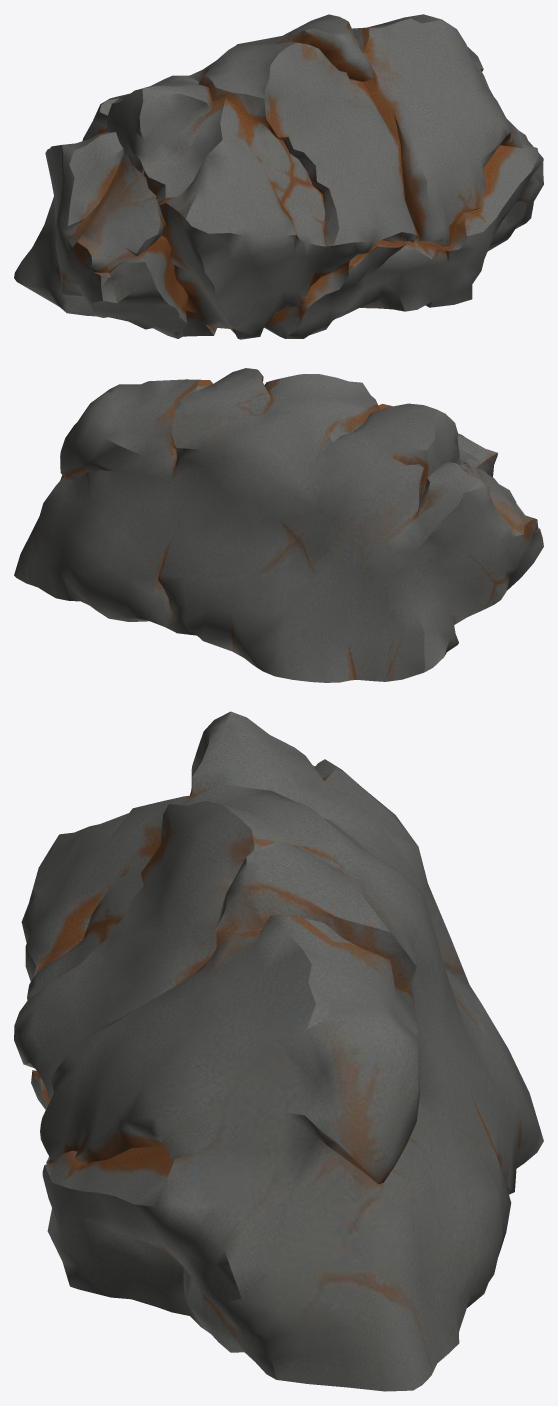
The model's file is resource_iron_ore_0.glb.
3 views of the same model, one above another, from view 1: azimuth 30°, elevation 25°; view 2: azimuth 150°, elevation 25°; view 3: azimuth 270°, elevation 25° (orthographic). The views are drawn at different scales.
Parts seen in each view (by area): view 1: MeshyGear_resource_iron_ore; view 2: MeshyGear_resource_iron_ore; view 3: MeshyGear_resource_iron_ore.
Part boxes in pixels (x1=…): MeshyGear_resource_iron_ore: x1=14, y1=14, x2=543, y2=339; MeshyGear_resource_iron_ore: x1=14, y1=368, x2=543, y2=682; MeshyGear_resource_iron_ore: x1=14, y1=711, x2=543, y2=1391.
Size of what is drawn, in the model's own units: 2.2 by 1.04 by 1.32.
Materials: 1 (1 with a texture image).
